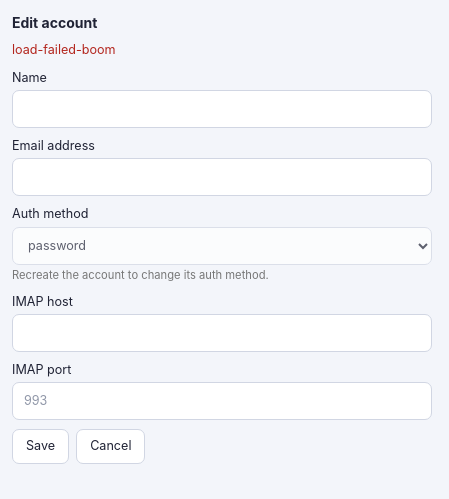
Test case: AccountForm › never creates a new account when an edit's initial load failed
Check: the message with test id "account-form-error" reads "load-failed-boom", box [12,42,116,57]
In the field labelled "Email address": (222, 177) [12,158,432,196], type "typed@e.rk"
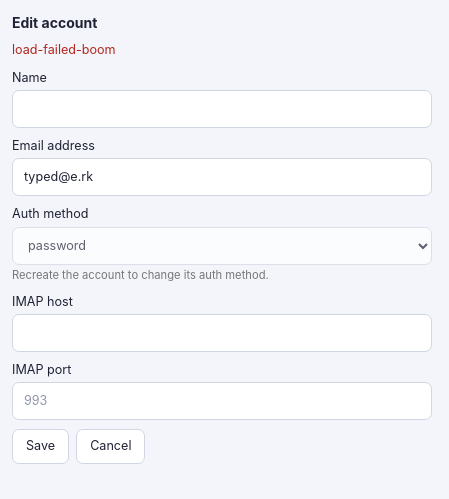
Submit the form with test id "account-form"
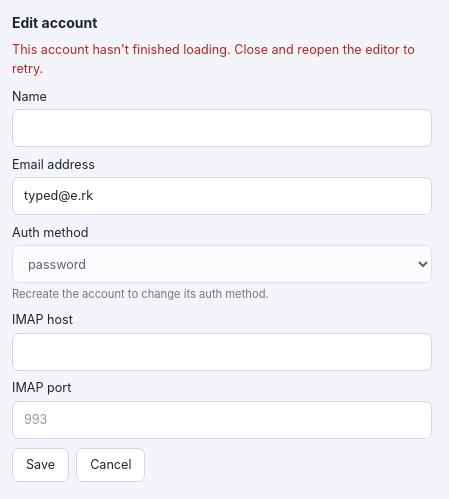
Check: the message with test id "account-form-error" shows "finished loading", box [12,42,415,76]
